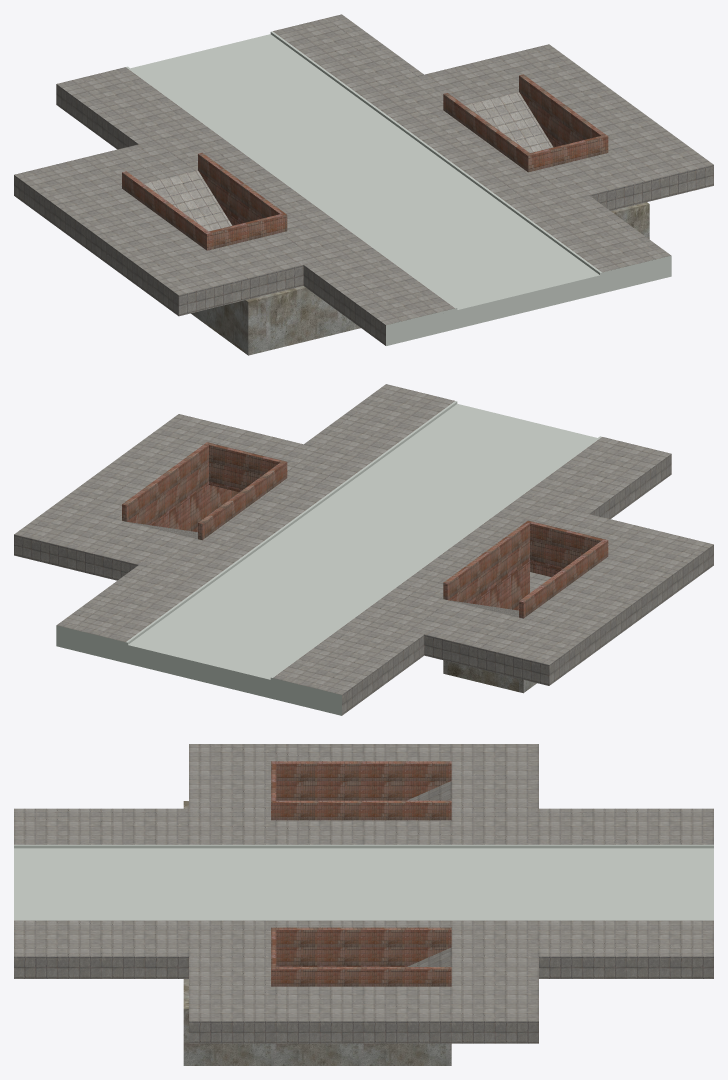
The model's file is SingleUnderpass_high.fbx.
3 views of the same model, one above another, from view 1: azimuth 30°, elevation 25°; view 2: azimuth 150°, elevation 25°; view 3: azimuth 270°, elevation 25° (orthographic). The views are drawn at different scales.
Visible parts, largest first — view 1: materialA150, materialE150, materialC150, materialD150, materialB150, materialF150, materialG150; view 2: materialA150, materialE150, materialC150, materialB150, materialF150, materialD150, materialG150; view 3: materialA150, materialE150, materialC150, materialD150, materialF150, materialG150.
Part boxes in pixels (bbox=[...]): materialA150: bbox=[14, 14, 713, 345]; materialE150: bbox=[130, 34, 599, 309]; materialC150: bbox=[122, 74, 608, 250]; materialD150: bbox=[191, 202, 649, 355]; materialB150: bbox=[386, 255, 671, 345]; materialF150: bbox=[126, 31, 601, 308]; materialG150: bbox=[270, 32, 599, 274]; materialA150: bbox=[14, 384, 713, 715]; materialE150: bbox=[128, 404, 597, 679]; materialC150: bbox=[122, 442, 608, 618]; materialB150: bbox=[56, 625, 341, 715]; materialF150: bbox=[126, 401, 601, 677]; materialD150: bbox=[443, 660, 536, 693]; materialG150: bbox=[128, 402, 457, 644]; materialA150: bbox=[14, 744, 713, 1043]; materialE150: bbox=[14, 848, 713, 919]; materialC150: bbox=[271, 761, 451, 986]; materialD150: bbox=[183, 801, 451, 1065]; materialF150: bbox=[14, 844, 713, 920]; materialG150: bbox=[14, 845, 713, 848].
Bounding box in the file's own units: 48 × 7.8 × 51.2.
